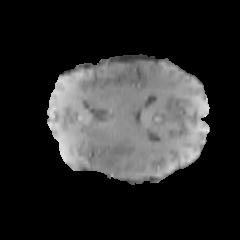glioma: (82, 136, 166, 179)
